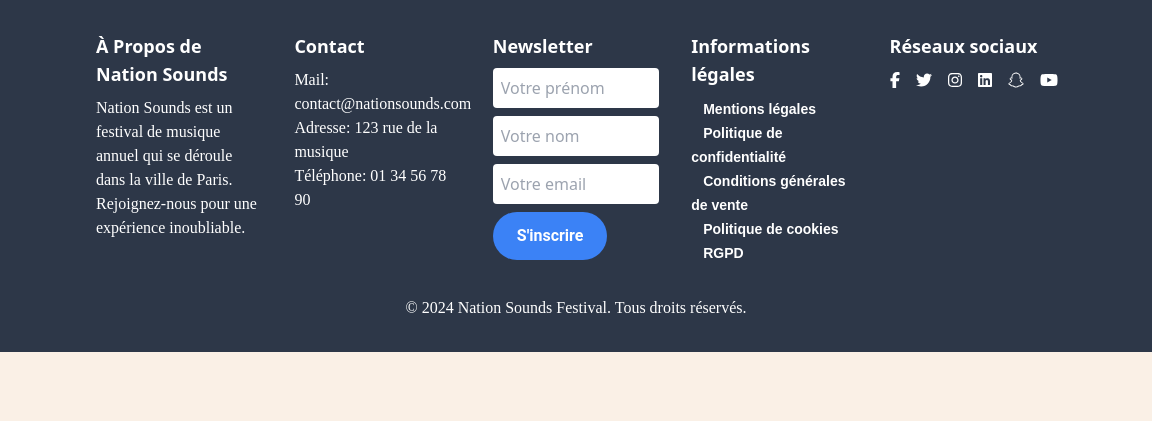
Test case: Composant Footer › affiche une erreur si la soumission échoue
This screenshot has width=1152, height=421.
Remplir le formulaire
Type "John" into the field with placeholder "Votre prénom".
click(576, 88); type("John")  # box x1=493 y1=68 x2=659 y2=108
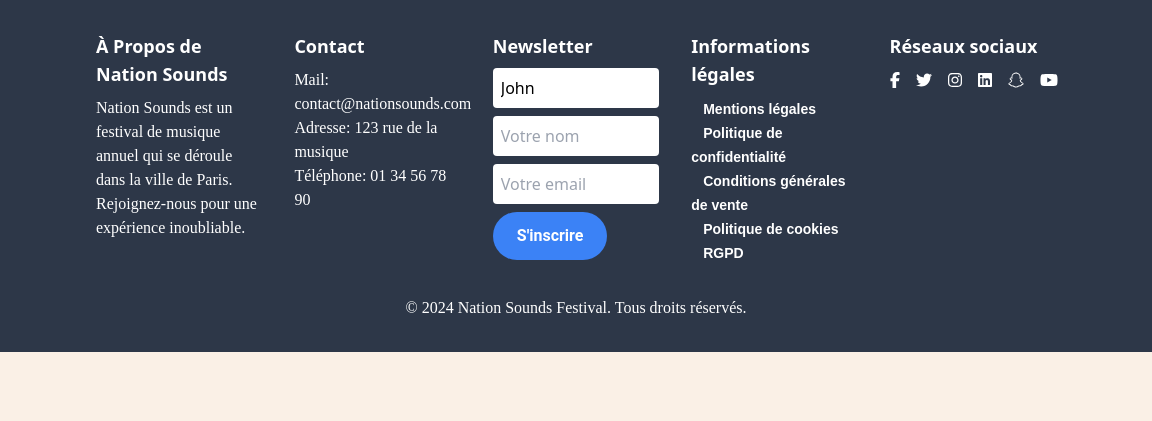
Type "Doe" into the field with placeholder "Votre nom".
click(576, 136); type("Doe")  # box x1=493 y1=116 x2=659 y2=156
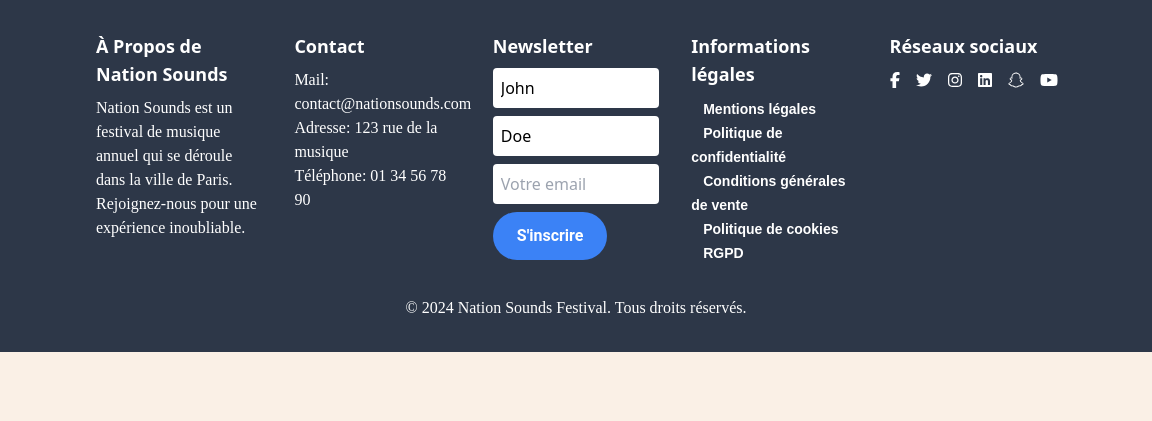
Type "john.doe@example.com" into the field with placeholder "Votre email".
click(576, 184); type("john.doe@example.com")  # box x1=493 y1=164 x2=659 y2=204
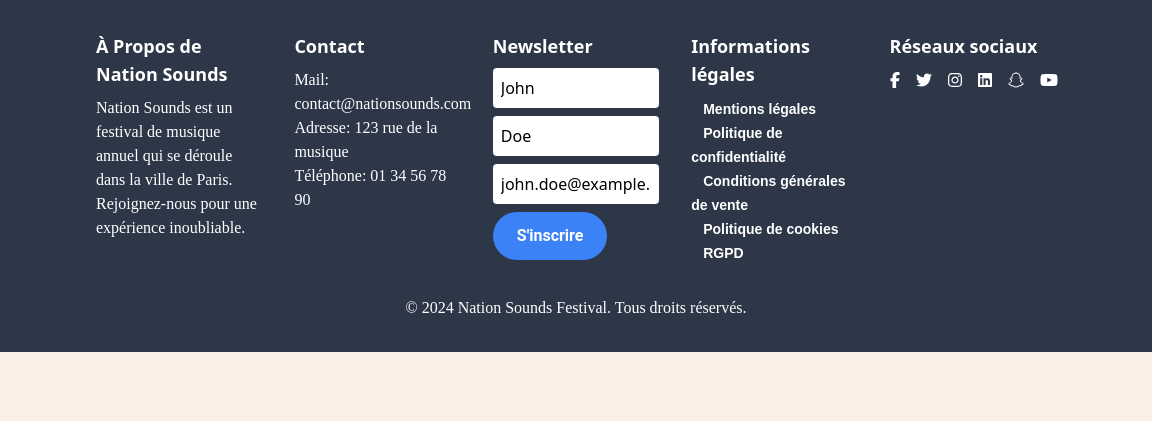
Soumettre le formulaire
Click the button "S'inscrire".
click(550, 236)  # box x1=493 y1=212 x2=608 y2=260
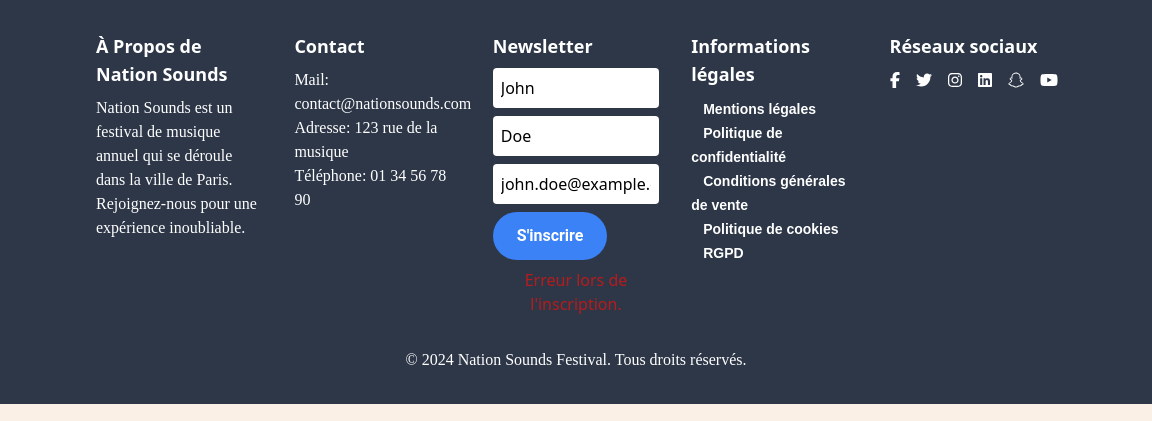
Check: the text "Erreur lors de l'inscription." is shown, box x1=525 y1=269 x2=627 y2=315
